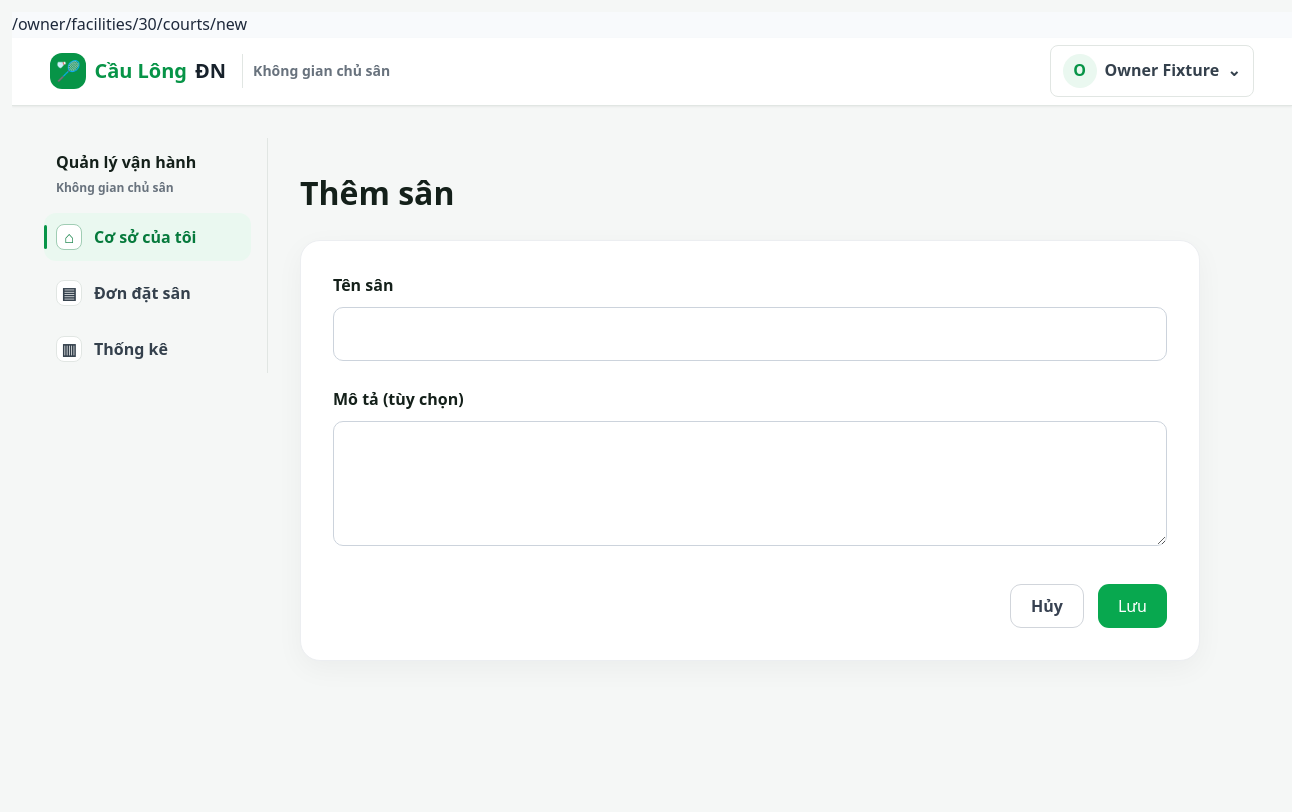
Test: API mutation errors are shown without fake success
Expected: the heading "Thêm sân" is shown, top-left (300, 171), bottom-right (454, 214)
In the field labelled "Tên sân": (750, 334) top-left (333, 307), bottom-right (1167, 361), type "Trùng"
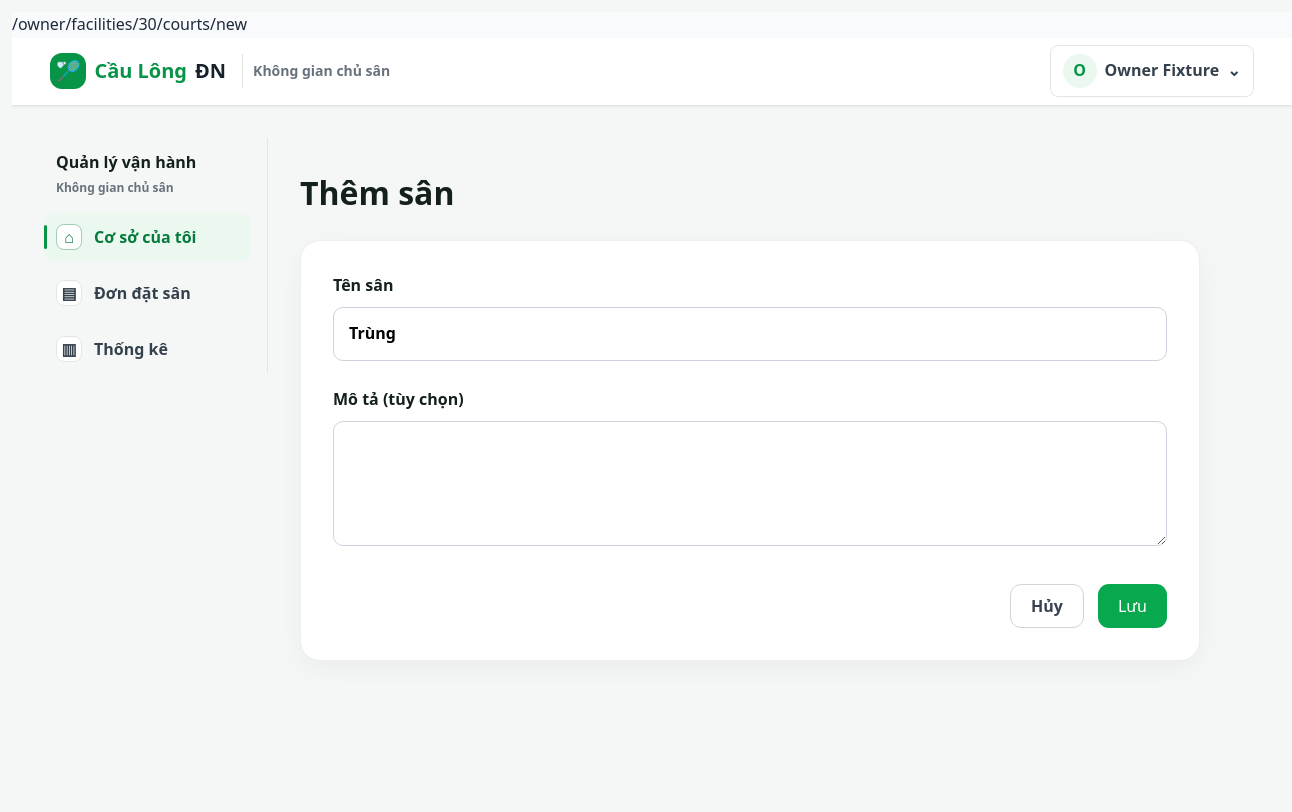
Click the button "Lưu": (1132, 606) top-left (1098, 584), bottom-right (1167, 628)
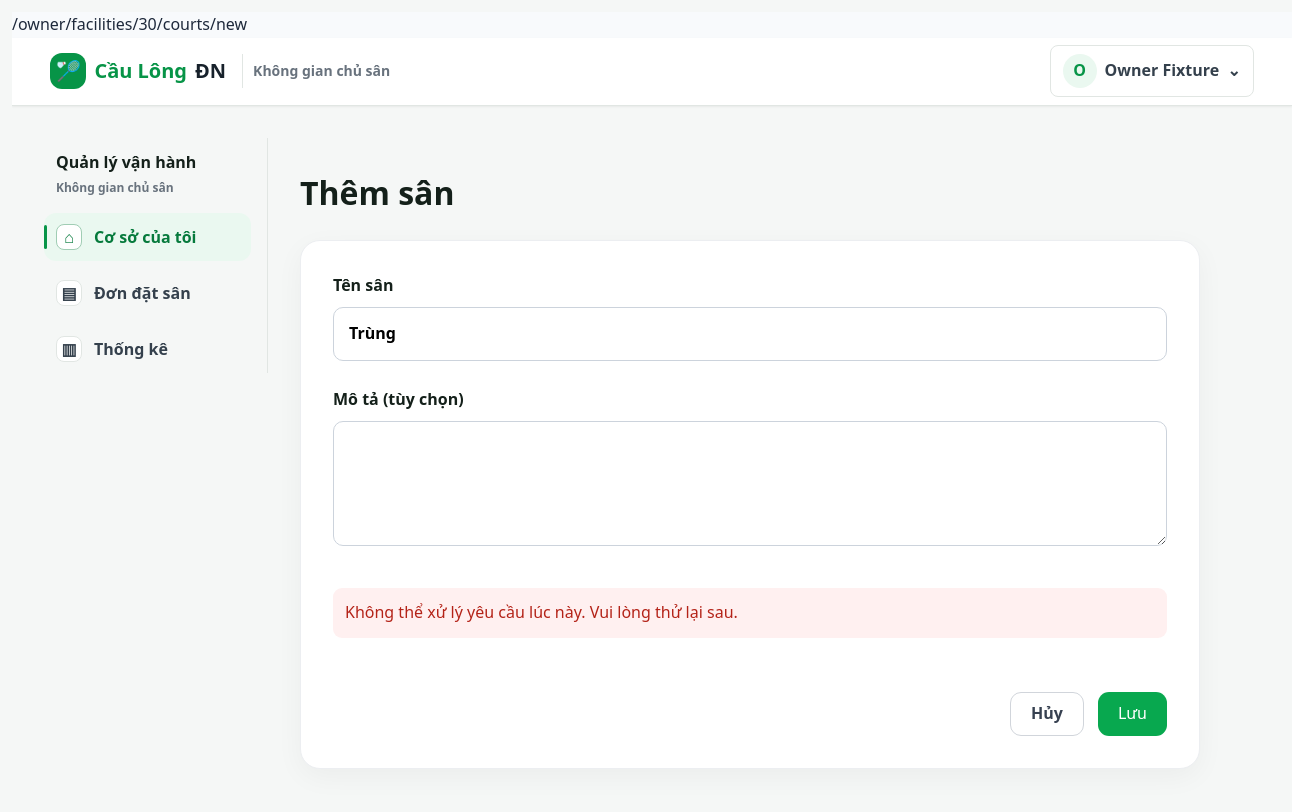
Expected: the text with test id "location" reads "/owner/facilities/30/courts/new", top-left (12, 13), bottom-right (247, 35)
Now the message "Không thể xử lý yêu cầu lúc này. Vui lòng thử lại sau." is shown, box top-left (333, 588), bottom-right (1167, 638)
